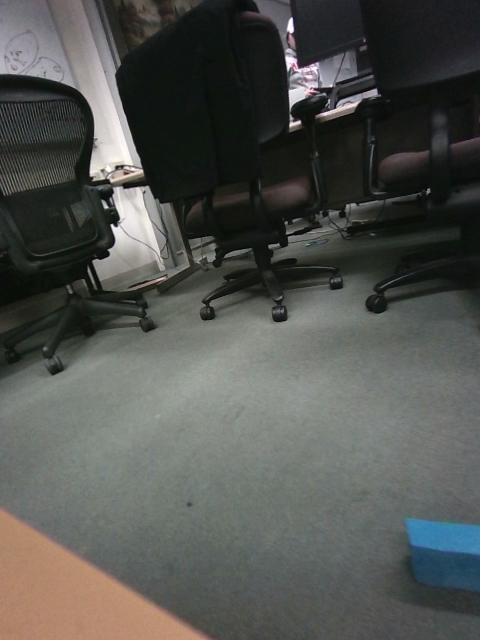block: (328, 241, 360, 272)
